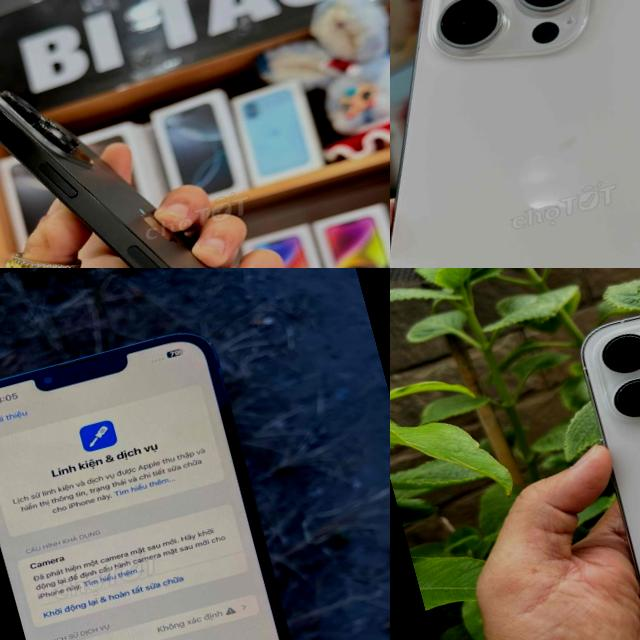gen_12_13: (0, 314, 318, 640)
gen_14: (0, 8, 344, 268), (552, 268, 640, 640)
gen_16: (390, 0, 640, 268)
